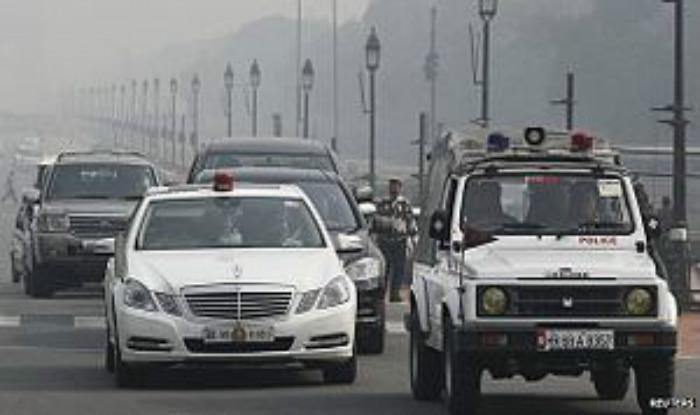Emergency-Vehicles: (412, 115, 683, 410), (101, 170, 367, 381)
